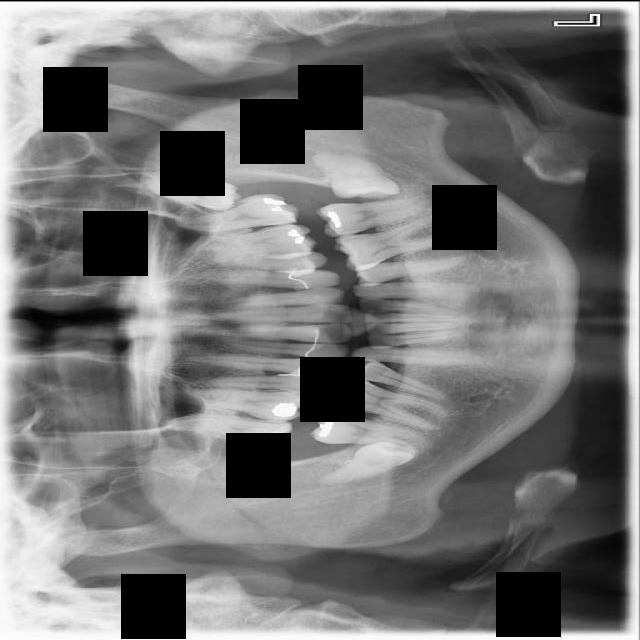52: (310, 401, 362, 452), (316, 193, 370, 242), (231, 417, 295, 451), (262, 221, 319, 258), (253, 387, 307, 423), (244, 193, 300, 225)
73: (606, 14, 622, 28)
BioHorizons Implant: (175, 188, 301, 235)
BioLife Implant: (116, 173, 243, 211)
Biomet 3i Implant: (313, 150, 402, 197)
Blue Sky Bio Implant: (316, 190, 437, 238)
Caries: (165, 405, 294, 455)
Implant: (310, 407, 432, 452)
Keystone Dental Implant: (315, 431, 421, 491)
